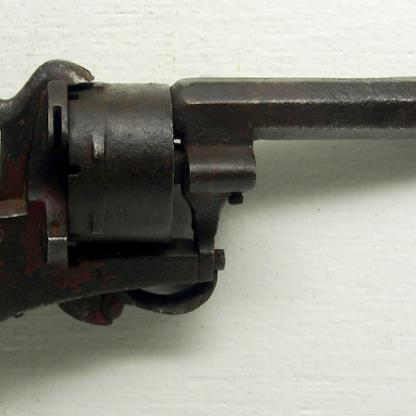gun: (0, 45, 415, 415)
